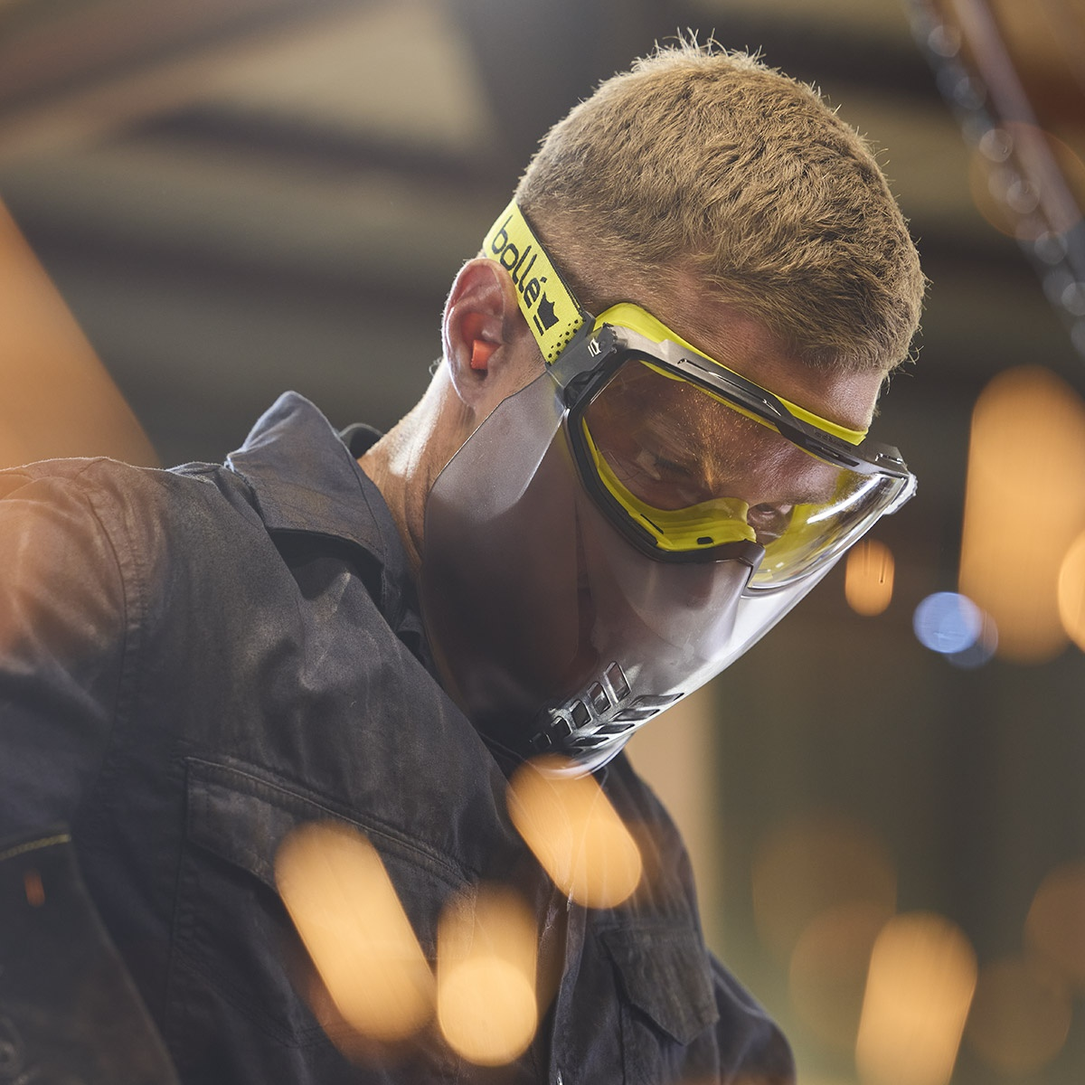safety_goggles: (299, 293, 1007, 773)
